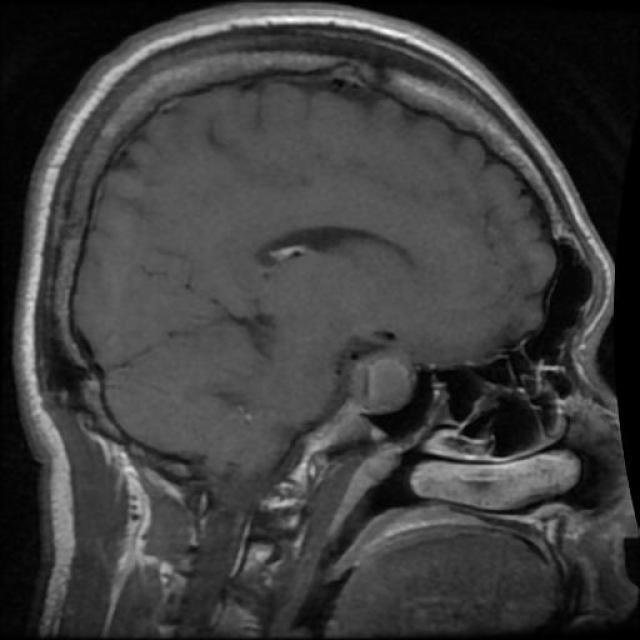pituitary: (332, 334, 415, 424)
